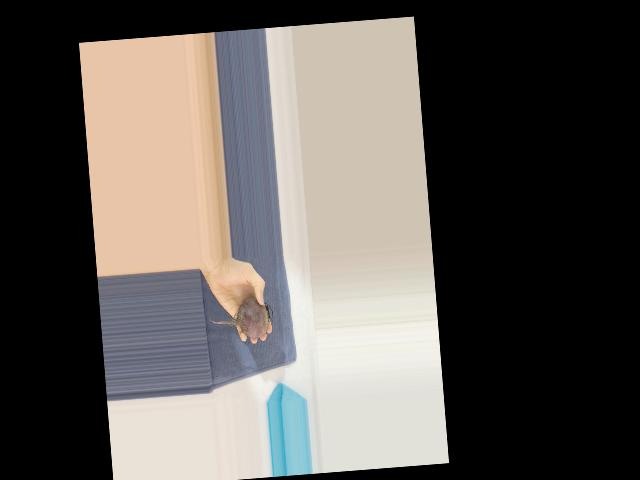beet: (207, 296, 274, 342)
